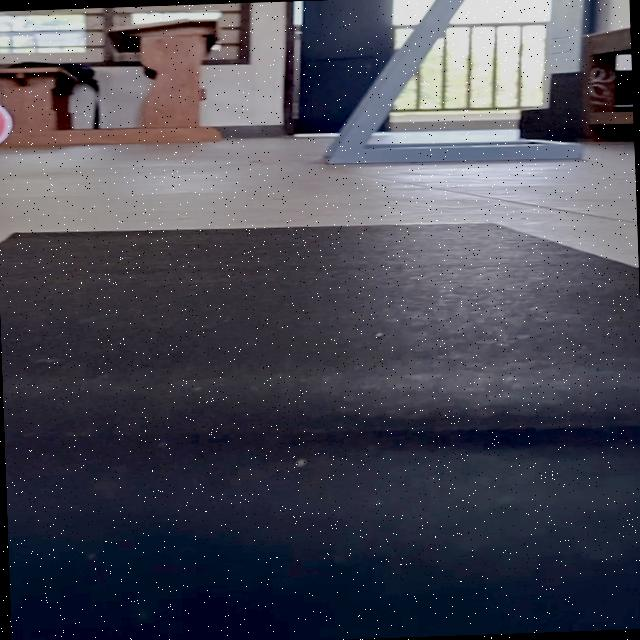Speed20: (0, 89, 21, 156)
